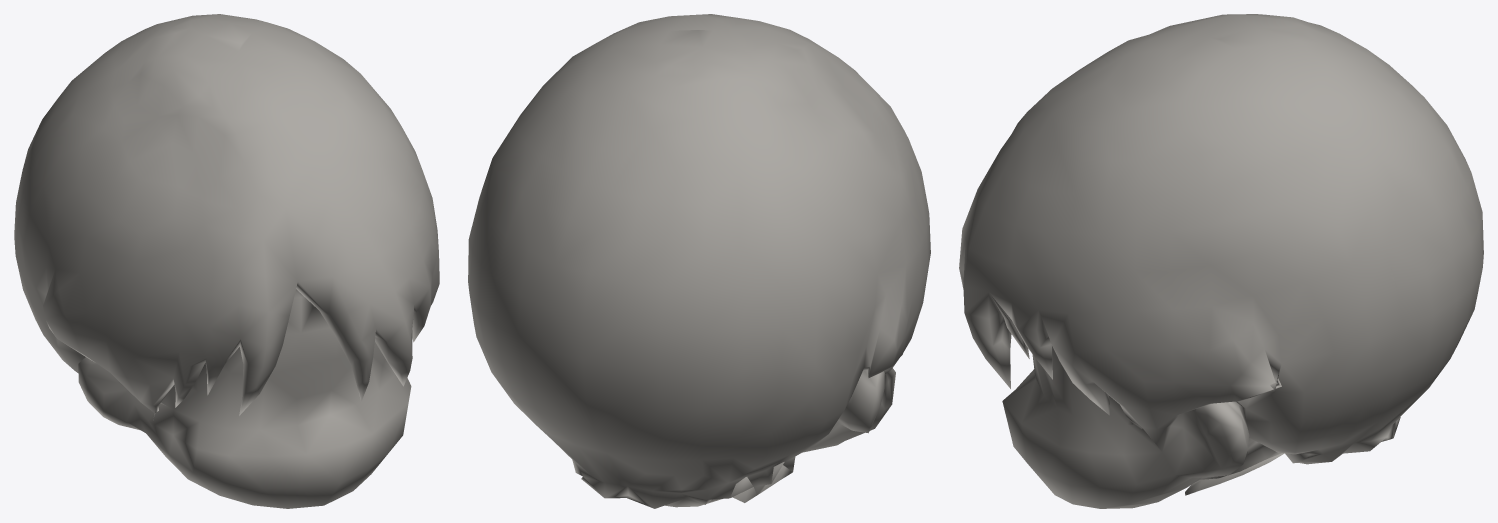
The model's file is head.glb.
3 renders of one model, left to right at view 1: azimuth 30°, elevation 25°; view 2: azimuth 150°, elevation 25°; view 3: azimuth 270°, elevation 25°, orthographic. The views are drawn at different scales.
Visible parts, largest first — view 1: meshes[0].002; view 2: meshes[0].002; view 3: meshes[0].002.
Part boxes in pixels (bbox=[...]): meshes[0].002: bbox=[14, 14, 439, 508]; meshes[0].002: bbox=[468, 14, 930, 508]; meshes[0].002: bbox=[959, 14, 1483, 508].
Bounding box in the file's own units: 0.3656 × 0.4031 × 0.4235.
Materials: 1 (1 with a texture image).
